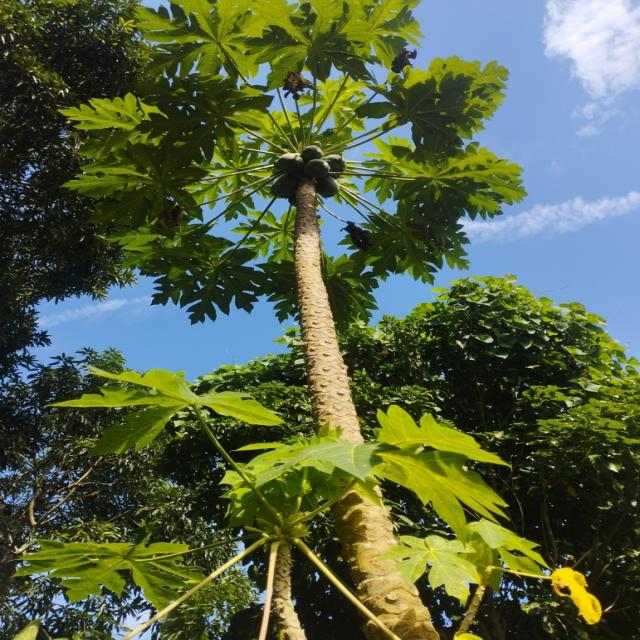Papaya-Tree: (97, 0, 607, 475)
